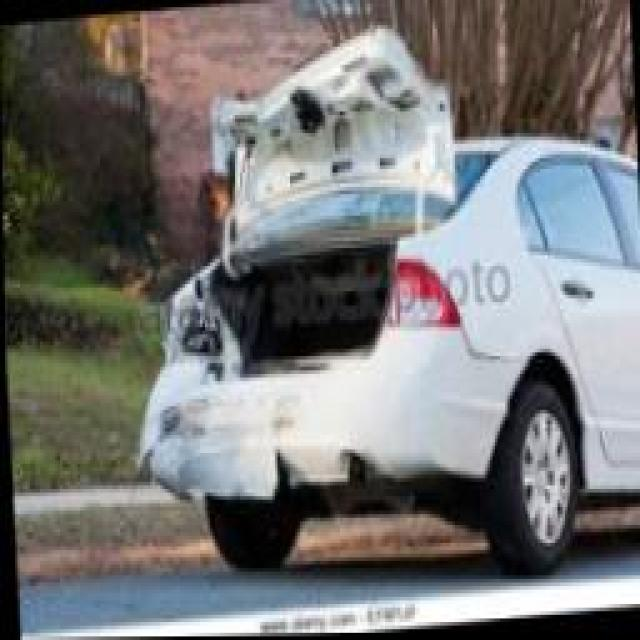Bumper: (132, 377, 328, 500)
Dickey: (211, 24, 456, 375)
Light: (164, 275, 229, 364)
